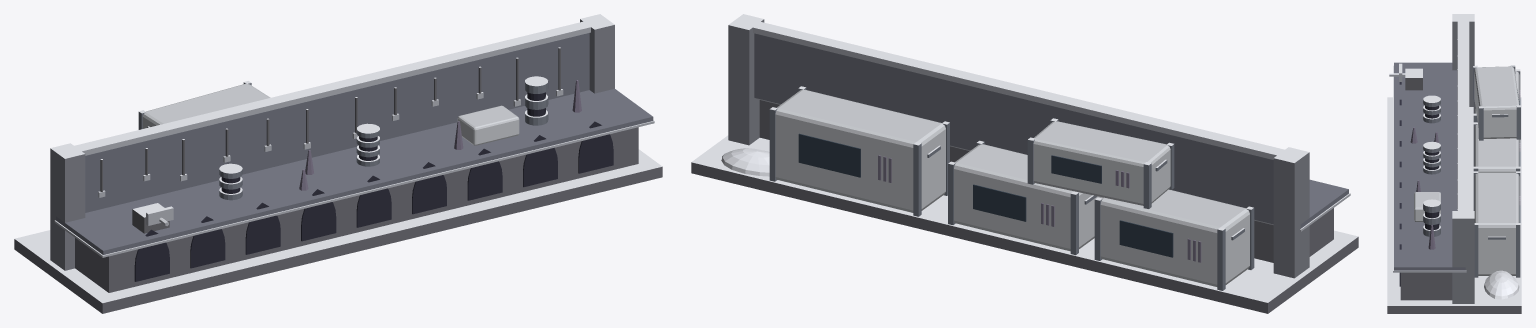
File: PR_Cobertura_Bancada.fbx
The picture shows the model from 3 angles, left to right: view 1: azimuth 30°, elevation 25°; view 2: azimuth 150°, elevation 25°; view 3: azimuth 270°, elevation 25°; orthographic projection. The views are drawn at different scales.
Visible parts, largest first — view 1: PR_Cobertura_Bancada; view 2: PR_Cobertura_Bancada; view 3: PR_Cobertura_Bancada.
Boxes of the visible parts, left/top/right/bottom form: PR_Cobertura_Bancada: left=14, top=14, right=662, bottom=313; PR_Cobertura_Bancada: left=691, top=14, right=1358, bottom=313; PR_Cobertura_Bancada: left=1387, top=14, right=1521, bottom=313.
Bounding box in the file's own units: 11 × 2.3 × 3.
